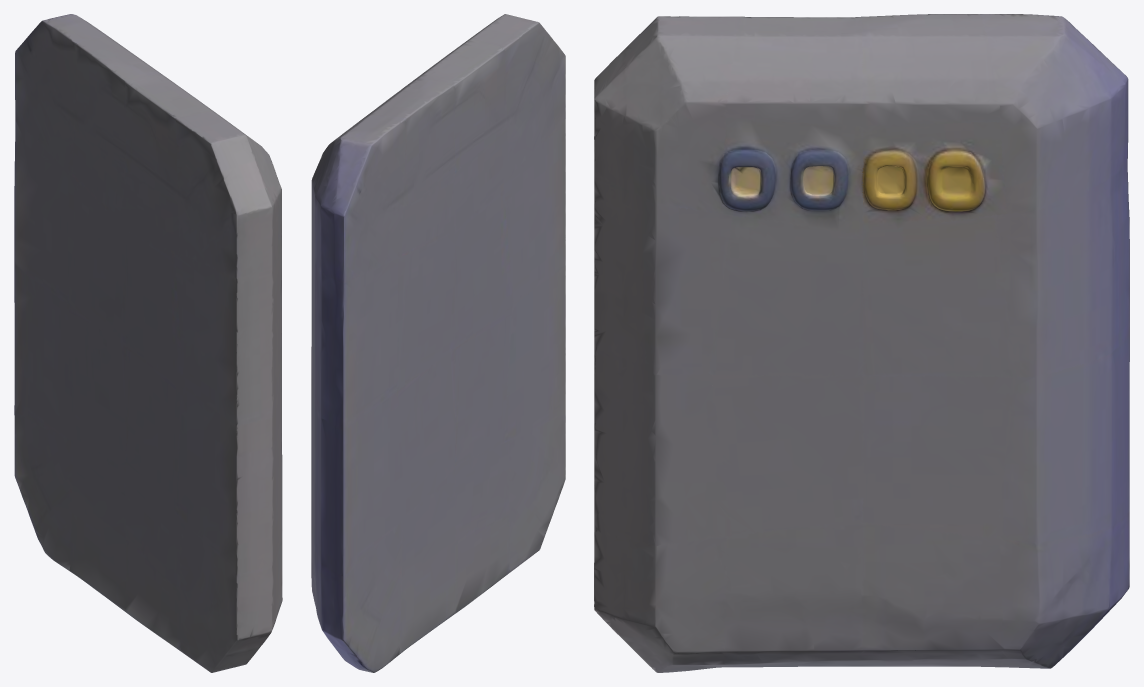
The model's file is powerbank-web.glb.
The picture shows the model from 3 angles, left to right: view 1: azimuth 30°, elevation 25°; view 2: azimuth 150°, elevation 25°; view 3: azimuth 270°, elevation 25°; orthographic projection. The views are drawn at different scales.
Parts seen in each view (by area): view 1: tripo_node_d7f487a4-33fd-4532-ad85-77ed5a68c2ef; view 2: tripo_node_d7f487a4-33fd-4532-ad85-77ed5a68c2ef; view 3: tripo_node_d7f487a4-33fd-4532-ad85-77ed5a68c2ef.
Boxes of the visible parts, <box> form: tripo_node_d7f487a4-33fd-4532-ad85-77ed5a68c2ef: <box>14,14,282,672</box>; tripo_node_d7f487a4-33fd-4532-ad85-77ed5a68c2ef: <box>311,14,565,672</box>; tripo_node_d7f487a4-33fd-4532-ad85-77ed5a68c2ef: <box>594,14,1129,672</box>.
Size of the model in its own units: 0.1476 by 0.9999 by 0.7562.
1 material, 1 textured.
